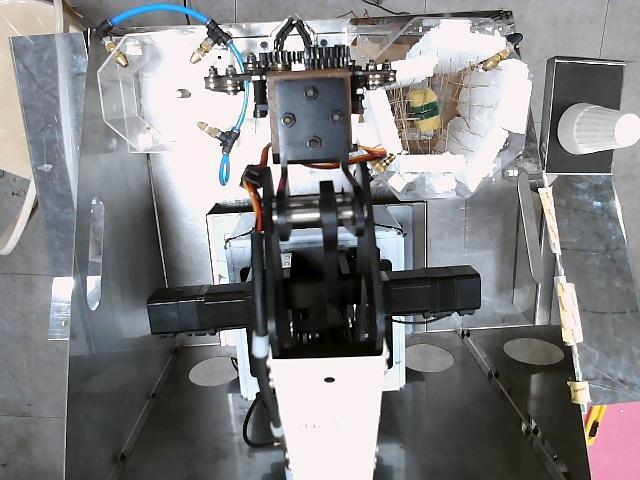cup: (559, 105, 639, 154)
